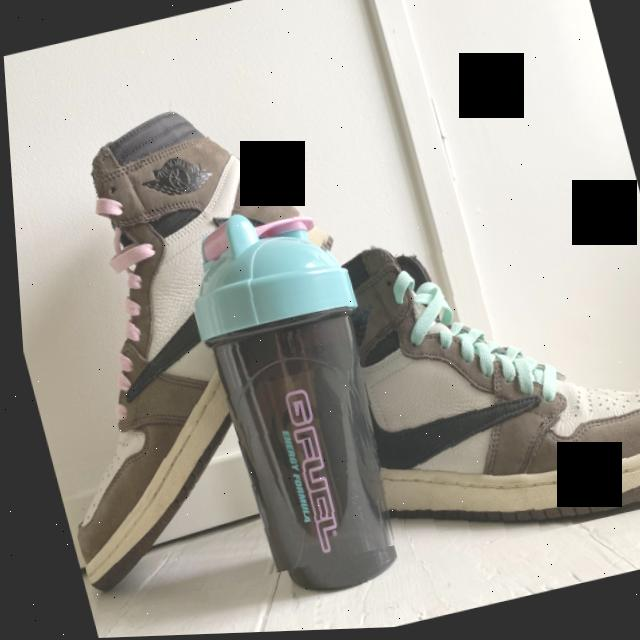shoe: (5, 79, 403, 616), (311, 183, 640, 570)
